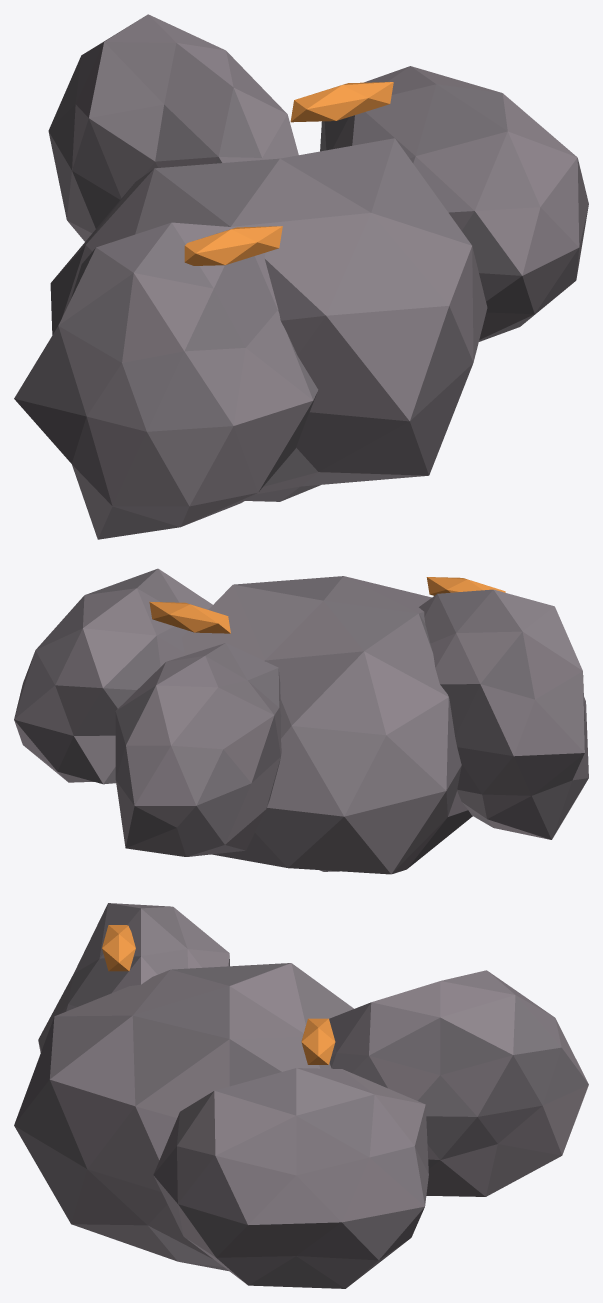
Rendered from asteroid_c.glb.
The picture shows the model from 3 angles, top to bottom: view 1: azimuth 30°, elevation 25°; view 2: azimuth 150°, elevation 25°; view 3: azimuth 270°, elevation 25°; orthographic projection. The views are drawn at different scales.
Visible parts, largest first — view 1: Shard cluster, Shard cluster.002, Shard cluster.001, Shard cluster.003, Copper seam.004, Copper seam.003; view 2: Shard cluster, Shard cluster.002, Shard cluster.003, Shard cluster.001, Copper seam.004, Copper seam.003; view 3: Shard cluster, Shard cluster.001, Shard cluster.003, Shard cluster.002, Copper seam.004, Copper seam.003.
Part boxes in pixels (x1,y1,x2,y2): Shard cluster: (50,138,487,501); Shard cluster.002: (14,222,318,539); Shard cluster.001: (320,66,588,341); Shard cluster.003: (48,14,298,241); Copper seam.004: (290,82,393,122); Copper seam.003: (184,226,282,265); Shard cluster: (181,576,472,874); Shard cluster.002: (419,589,588,839); Shard cluster.003: (115,643,281,856); Shard cluster.001: (14,568,212,784); Copper seam.004: (149,601,230,633); Copper seam.003: (426,577,505,595); Shard cluster: (14,963,353,1270); Shard cluster.001: (153,1068,428,1288); Shard cluster.003: (329,970,588,1196); Shard cluster.002: (38,903,229,1052); Copper seam.004: (301,1018,335,1064); Copper seam.003: (102,925,135,971).
Bounding box in the file's own units: 2.68 × 1.49 × 2.59.
